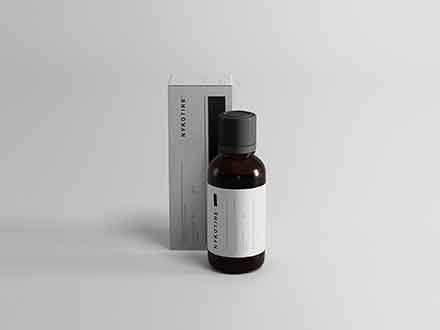Medicine: (162, 65, 237, 252), (204, 102, 271, 274)
